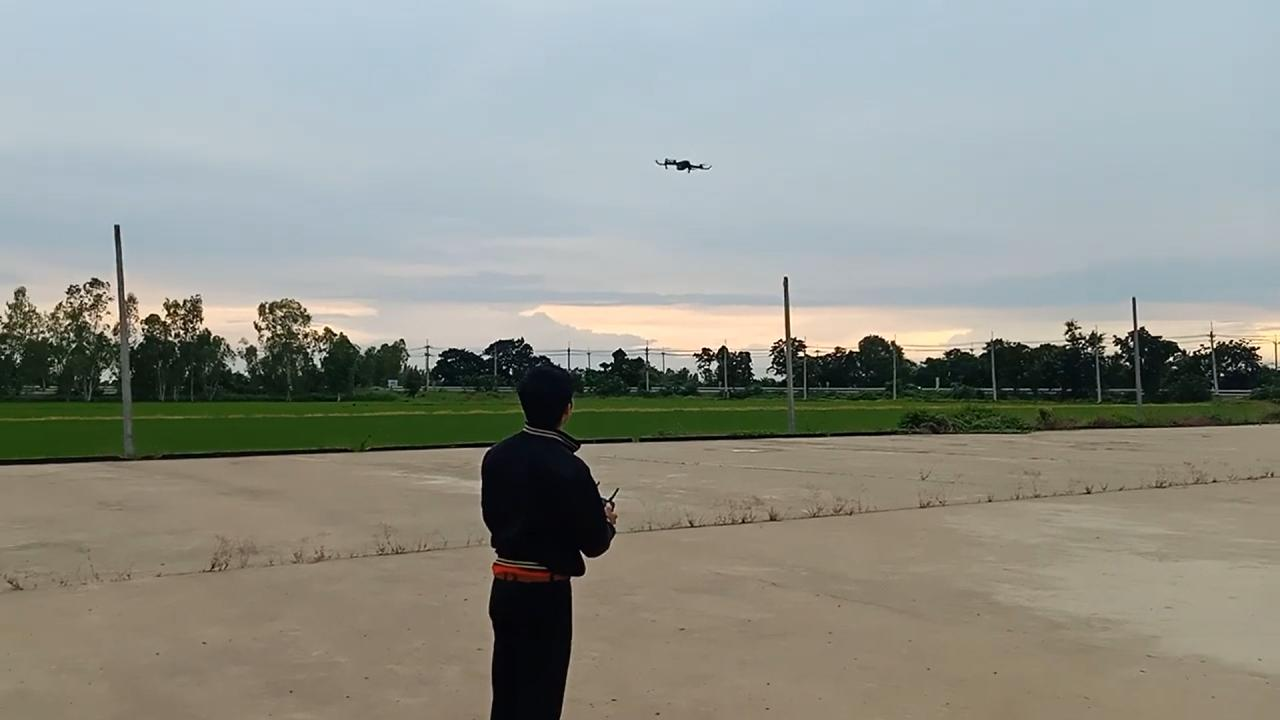Drone: (644, 147, 721, 182)
